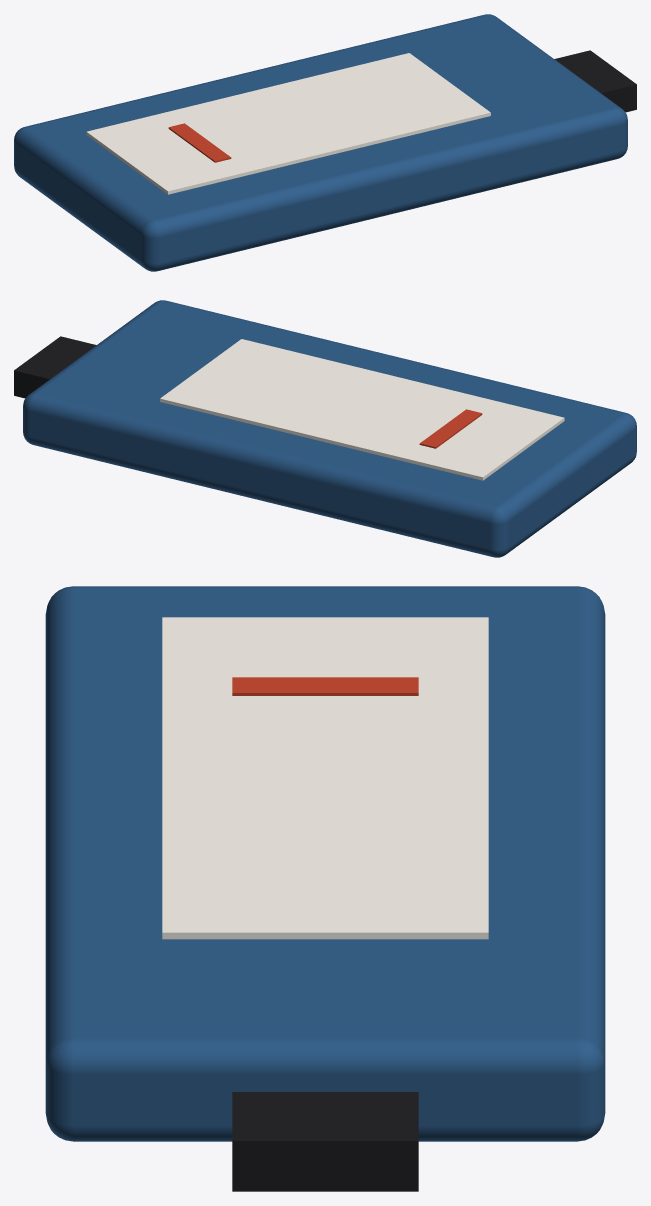
Rendered from part-battery.glb.
3 renders of one model, top to bottom at view 1: azimuth 30°, elevation 25°; view 2: azimuth 150°, elevation 25°; view 3: azimuth 270°, elevation 25°, orthographic. The views are drawn at different scales.
Parts seen in each view (by area): view 1: batteryBlue, paper, blackPlastic, redPlastic; view 2: batteryBlue, paper, blackPlastic, redPlastic; view 3: batteryBlue, paper, blackPlastic, redPlastic.
Boxes of the visible parts, x1,y1,x2,y2 form: batteryBlue: (14, 14, 627, 271); paper: (86, 53, 490, 194); blackPlastic: (554, 50, 636, 112); redPlastic: (168, 123, 231, 162); batteryBlue: (23, 300, 636, 557); paper: (160, 339, 564, 480); blackPlastic: (14, 336, 96, 398); redPlastic: (419, 409, 482, 448); batteryBlue: (45, 586, 605, 1141); paper: (162, 617, 488, 939); blackPlastic: (232, 1092, 418, 1191); redPlastic: (232, 677, 418, 695).
Size of the model in its own units: 0.1325 by 0.0132 by 0.06.
